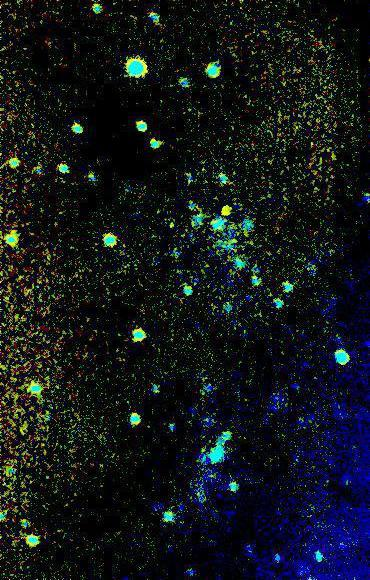star: (209, 195, 239, 225)
